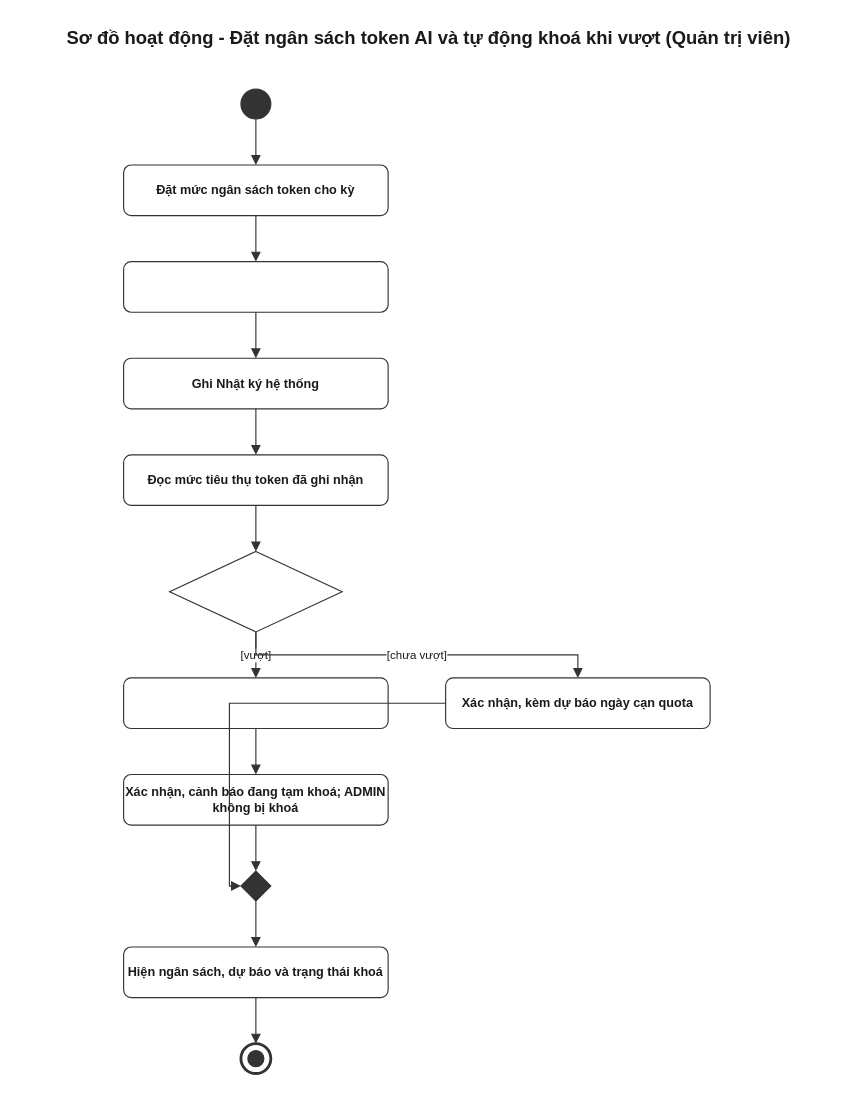
Some shapes in this 856 by 1095 pixel diagram are drawn without their labels. Each missing label, with the box of its shape:
Bật cờ tạm khoá gọi AI cho STUDENT và INSTRUCTOR: (122, 677, 388, 729)
Ghi mức ngân sách của kỳ: (122, 260, 388, 312)
Mức tiêu thụ đã vượt ngân sách mới?: (168, 550, 342, 632)
